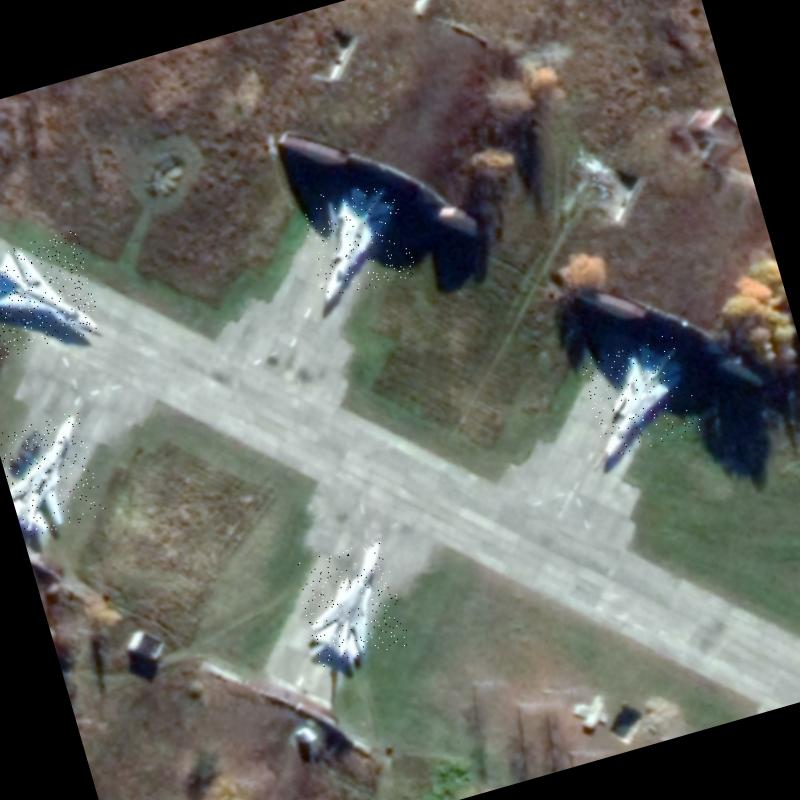A20: (576, 332, 704, 460), (290, 536, 412, 670), (296, 172, 418, 302), (0, 409, 107, 537), (0, 229, 103, 359)
